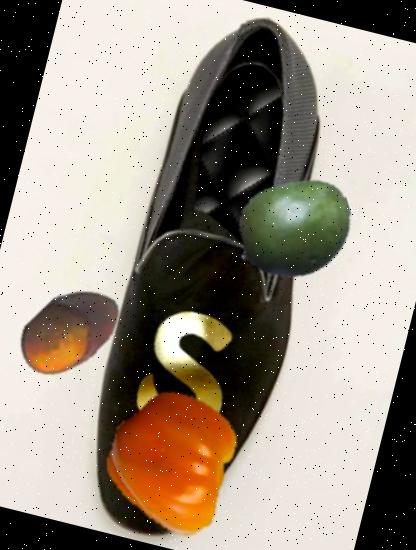Hazelnut: (2, 264, 137, 399)
Mango: (224, 159, 366, 301)
Pepper: (96, 379, 260, 543)
